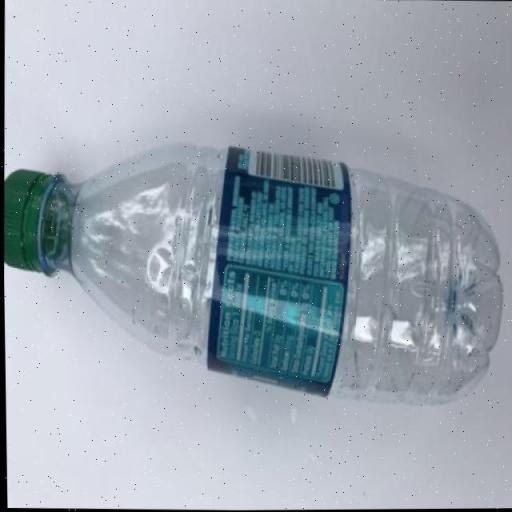plastic: (2, 140, 506, 414)
